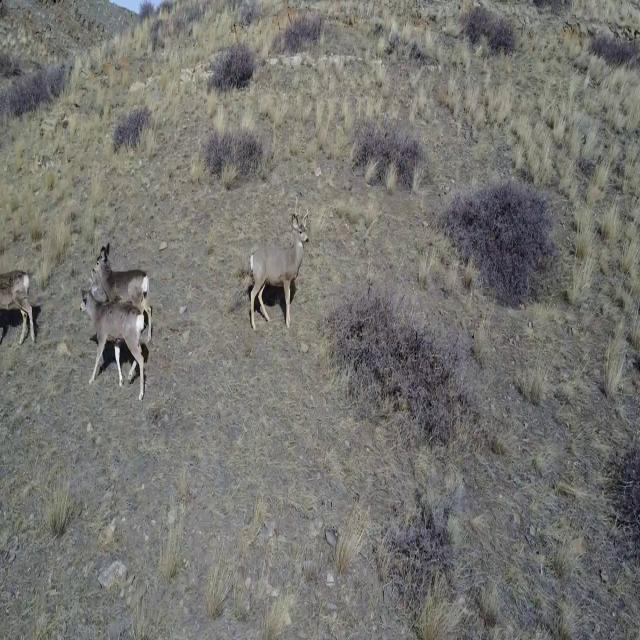Deer: (248, 198, 312, 332), (79, 279, 145, 401), (92, 242, 154, 345), (1, 263, 35, 349)
